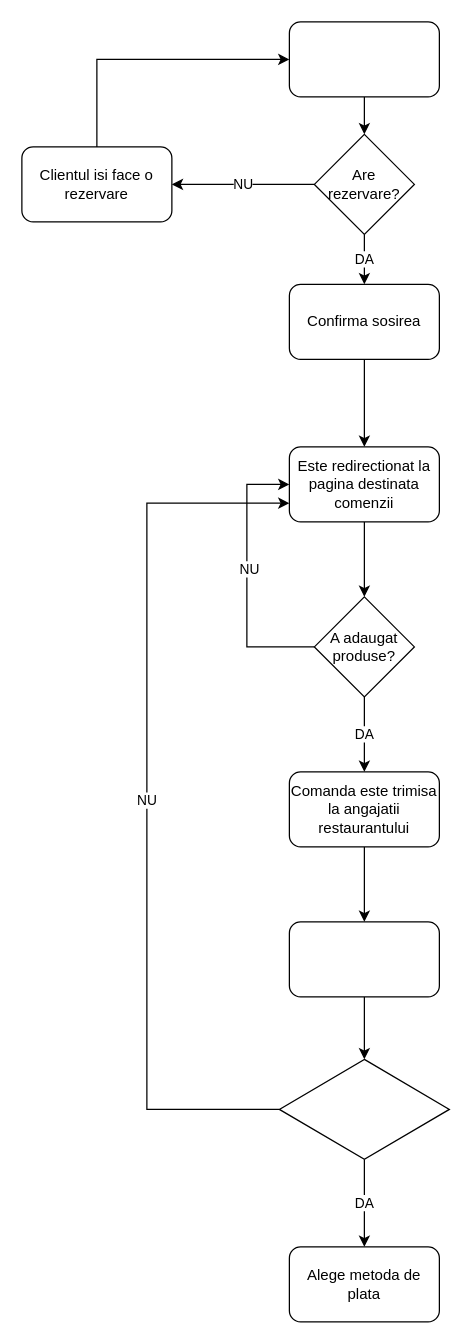
The diagram is 471 pixels wide and 1344 high, and some of its shapes have lost their labels. The centre of each missing label's shape, as x and y in pixels:
"A facut cel putin o comanda?" goes at (x=363, y=1108).
"Clientul este pe pagina de profil" goes at (x=363, y=59).
"Utilizatorul doreste sa plateasca" goes at (x=363, y=959).
